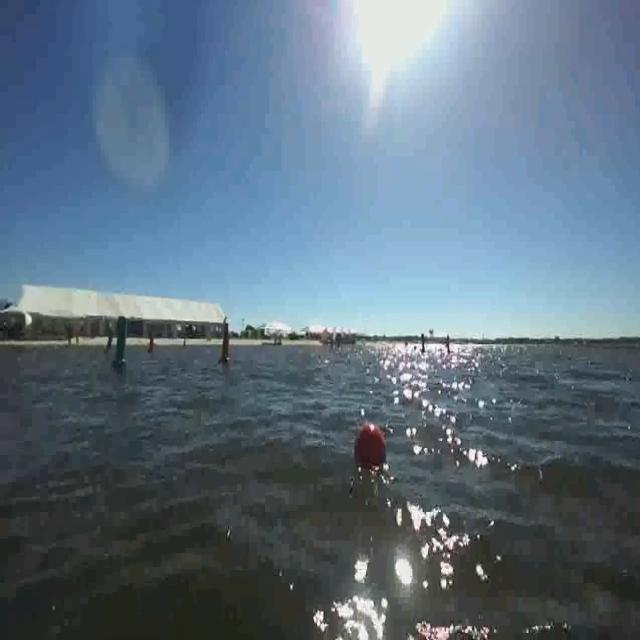green-column-buoy: (111, 315, 131, 368)
red-buoy: (353, 419, 389, 477)
red-column-buoy: (218, 327, 233, 367), (148, 334, 156, 355)
